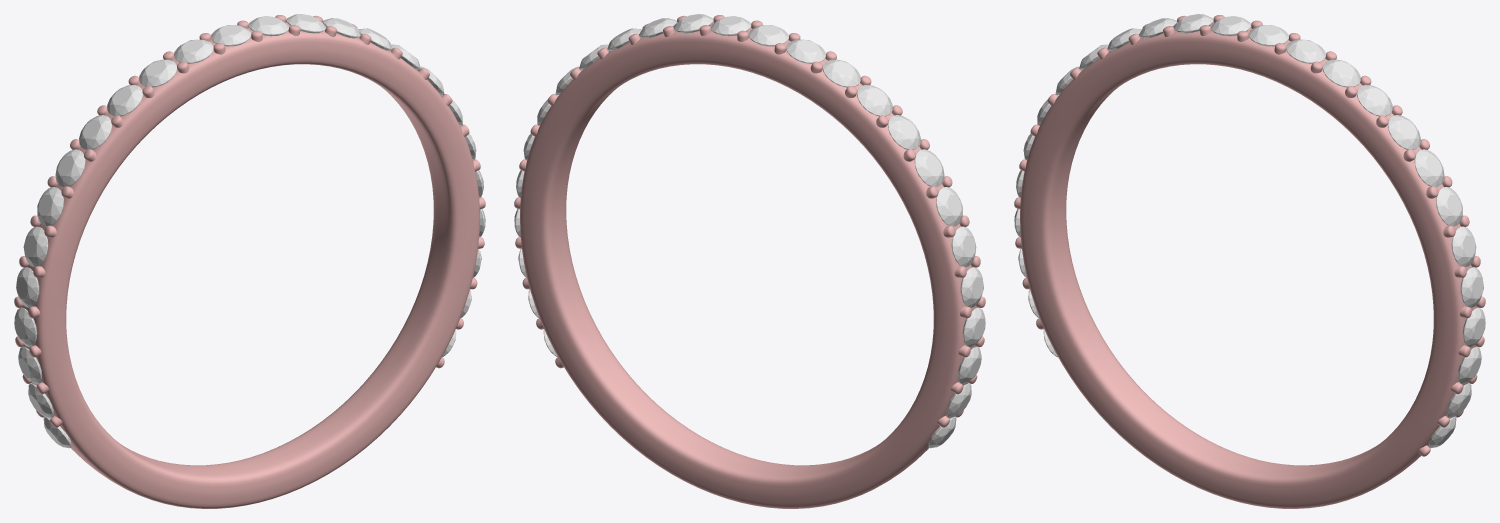
The model's file is PlateProng.glb.
The picture shows the model from 3 angles, left to right: view 1: azimuth 30°, elevation 25°; view 2: azimuth 150°, elevation 25°; view 3: azimuth 330°, elevation 25°; orthographic projection.
Visible parts, largest first — view 1: plain.001, diamond.002, metal.002; view 2: plain.001, diamond.002, metal.002; view 3: plain.001, diamond.002, metal.002.
Boxes of the visible parts, x1,y1,x2,y2 form: plain.001: (22,22,479,508); diamond.002: (14,14,485,448); metal.002: (14,15,485,427); plain.001: (520,22,977,508); diamond.002: (514,14,985,448); metal.002: (514,15,985,427); plain.001: (1020,22,1477,508); diamond.002: (1014,14,1485,448); metal.002: (1014,15,1485,456).
Size of the model in its own units: 16.13 by 15.85 by 1.38.
